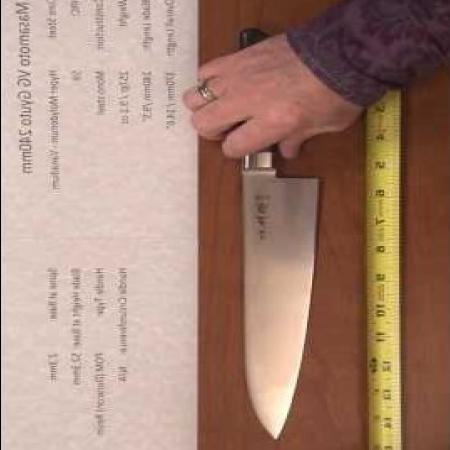long weapon: (177, 86, 322, 442)
